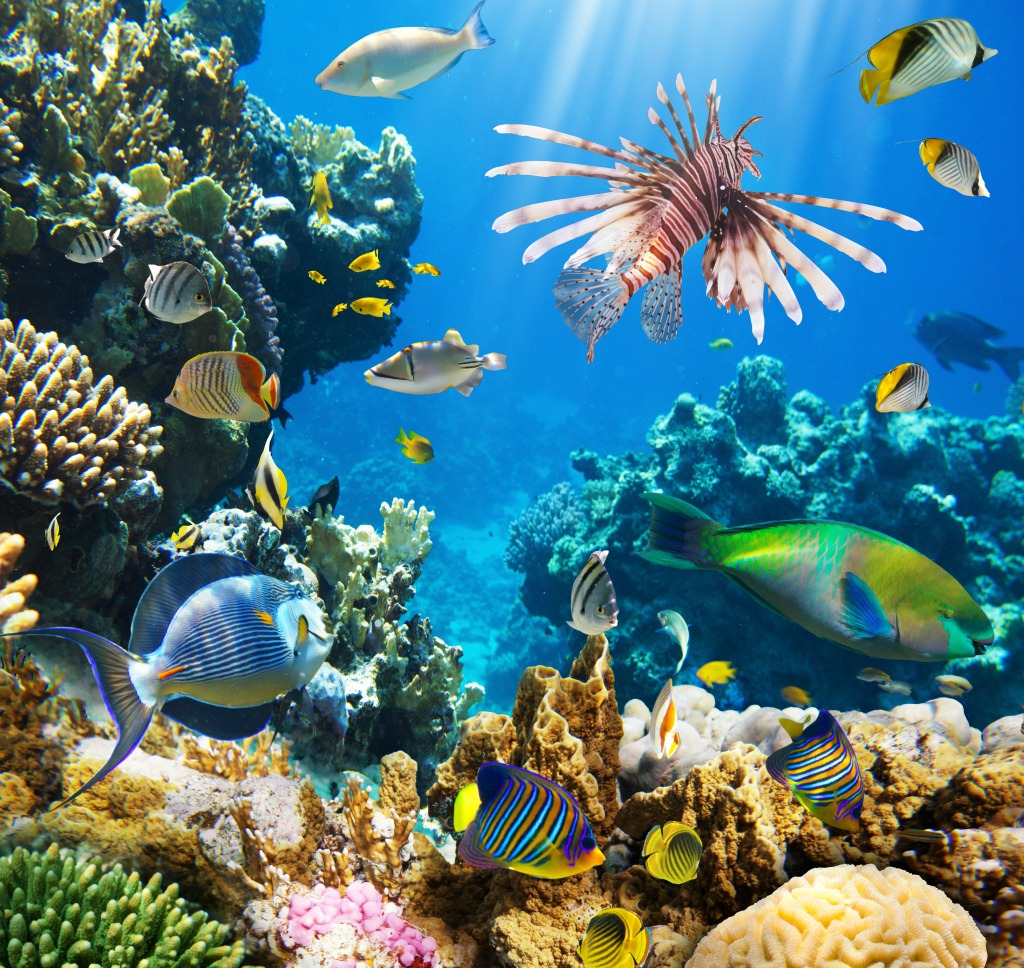fishLarge: (675, 497, 1008, 674), (85, 555, 331, 756), (363, 337, 499, 397), (914, 311, 1020, 370)
fishRound: (469, 761, 599, 880), (777, 718, 866, 835), (165, 349, 281, 423), (918, 130, 992, 201), (142, 260, 212, 327), (644, 814, 701, 886), (578, 905, 641, 968), (573, 552, 619, 638), (250, 447, 292, 535), (874, 358, 927, 413), (648, 679, 680, 763), (67, 229, 124, 264), (395, 423, 436, 468), (168, 522, 207, 552), (698, 661, 738, 690), (45, 511, 63, 552), (782, 686, 814, 707)
fishSmall: (548, 115, 805, 320), (657, 602, 691, 677), (306, 172, 341, 222), (934, 670, 974, 698), (345, 298, 395, 320), (346, 250, 383, 274), (411, 258, 441, 278), (877, 677, 912, 694), (858, 665, 886, 683), (707, 334, 736, 351), (307, 272, 328, 285), (332, 302, 344, 320), (376, 278, 395, 289)
